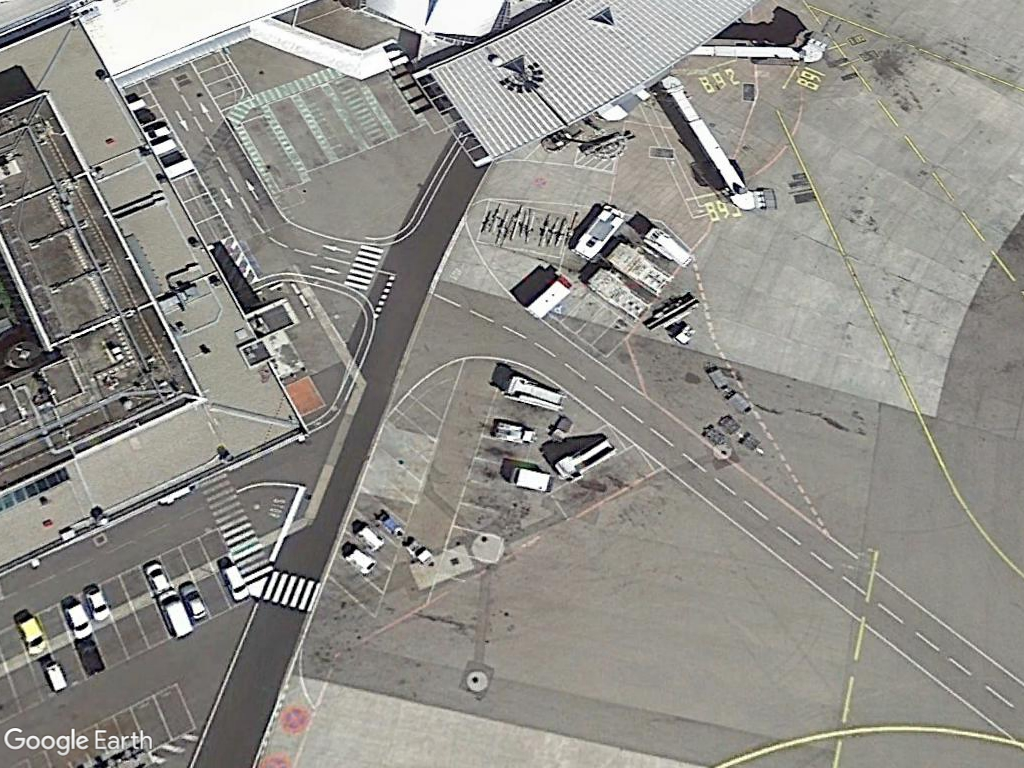stairtruck: (490, 363, 570, 415)
